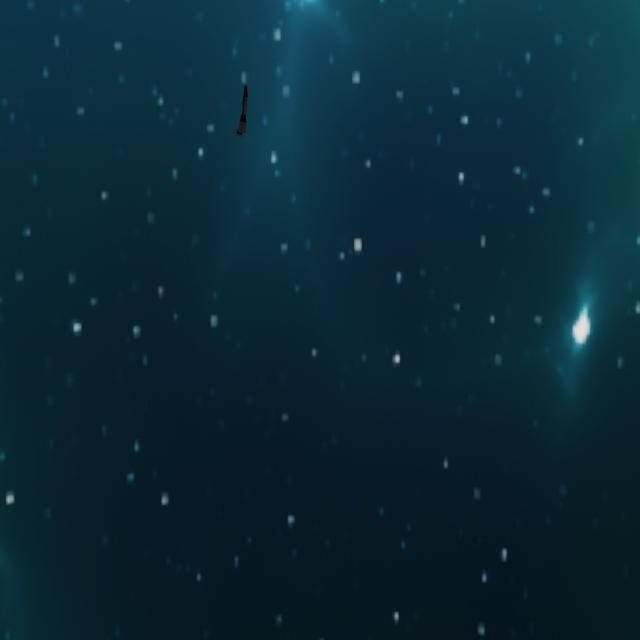large_debris: (236, 76, 250, 139)
